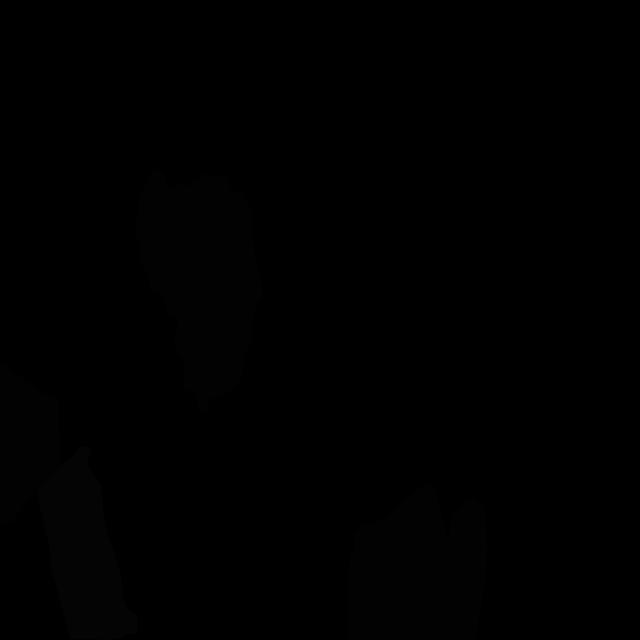cardboard: (135, 168, 264, 412), (347, 483, 487, 640), (0, 361, 60, 527)
soft_plastic: (36, 446, 137, 640)
